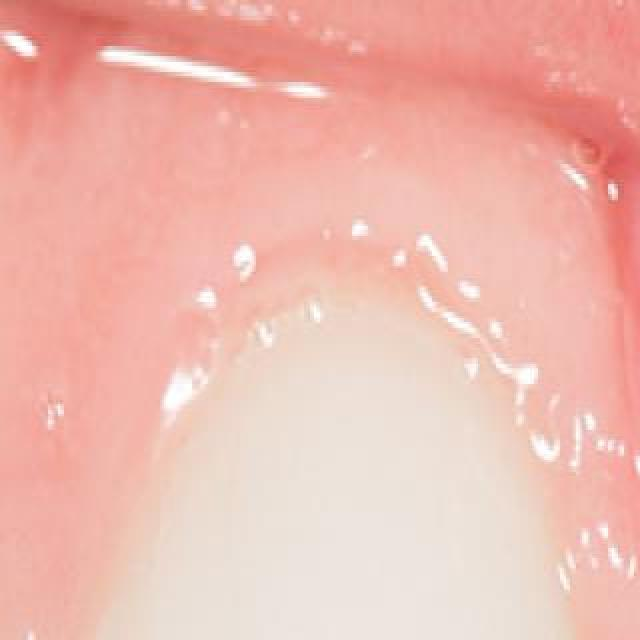spacing: (438, 554, 640, 640)
